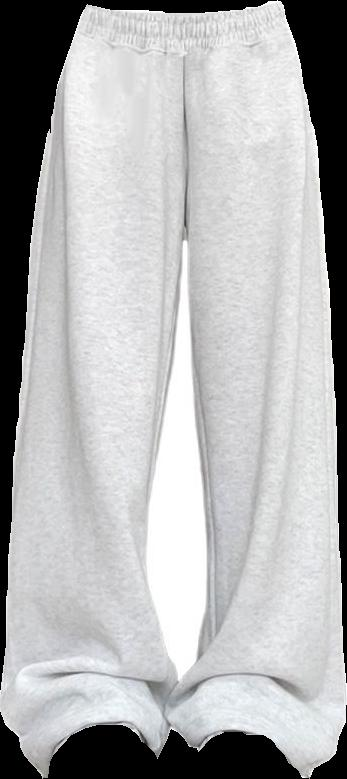Hemline: (39, 719, 165, 778), (190, 727, 310, 778)
Pantleg: (0, 5, 187, 771), (161, 2, 346, 776)
Waistline: (76, 29, 291, 55), (88, 0, 284, 19)
